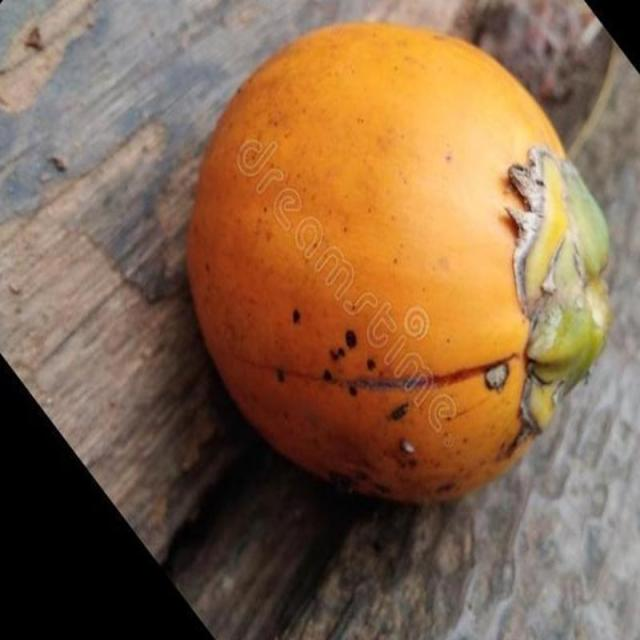good: (185, 22, 612, 508)
